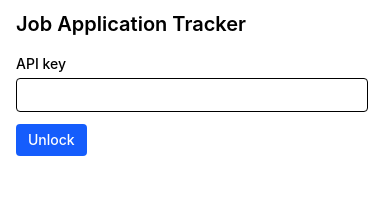
Test: ApiKeyGate › shows an error and stays locked when the backend rejects the key
In the password field labelled "API key": [192, 95] box [16,78,368,112], type "wrong-key"
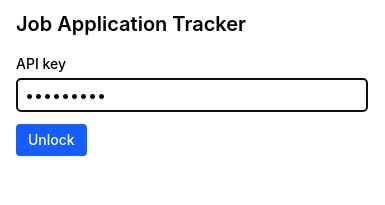
Click the button "Unlock": [51, 140] box [16,124,87,156]
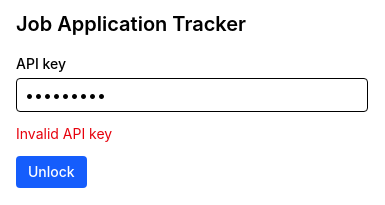
Check: the text "Invalid API key" is shown, box [16,125,112,142]
